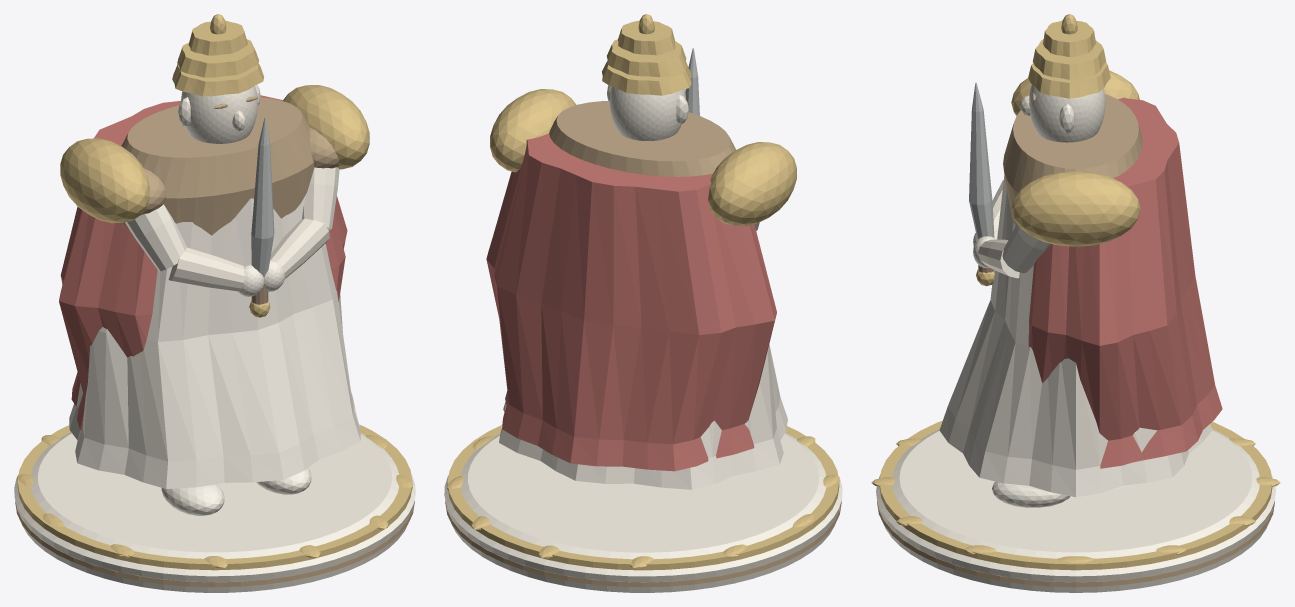
The picture shows the model from 3 angles, left to right: view 1: azimuth 30°, elevation 25°; view 2: azimuth 150°, elevation 25°; view 3: azimuth 270°, elevation 25°; orthographic projection.
Parts seen in each view (by area): view 1: Raja_Robe, Plinth_Stone, Raja_Cuirass, Raja_CrimsonMantle, Plinth_GoldRim, Raja_BroadShoulderLeft, Raja_BroadShoulderRight, Raja_Head, Raja_Sword_Blade, Raja_LeftArm_Upper, Plinth_BronzeFillet, Raja_LeftArm_Fore (+10 smaller); view 2: Raja_CrimsonMantle, Plinth_Stone, Raja_Cuirass, Raja_Robe, Plinth_GoldRim, Raja_BroadShoulderLeft, Raja_BroadShoulderRight, Raja_Head, Plinth_BronzeFillet, Raja_CrownTier1, Raja_CrownTier0, Raja_CrownTier2 (+1 smaller); view 3: Raja_CrimsonMantle, Plinth_Stone, Raja_Robe, Raja_BroadShoulderRight, Raja_Cuirass, Plinth_GoldRim, Raja_Head, Raja_Sword_Blade, Plinth_BronzeFillet, Raja_CrownTier1, Raja_CrownTier0, Raja_CrownTier2 (+4 smaller).
Boxes of the visible parts, left/top/right/bottom form: Raja_Robe: left=69, top=194, right=360, bottom=488; Plinth_Stone: left=14, top=432, right=415, bottom=592; Raja_Cuirass: left=121, top=97, right=314, bottom=235; Raja_CrimsonMantle: left=59, top=95, right=347, bottom=430; Plinth_GoldRim: left=17, top=424, right=412, bottom=570; Raja_BroadShoulderLeft: left=60, top=138, right=149, bottom=223; Raja_BroadShoulderRight: left=283, top=85, right=369, bottom=169; Raja_Head: left=181, top=86, right=257, bottom=143; Raja_Sword_Blade: left=251, top=117, right=274, bottom=277; Raja_LeftArm_Upper: left=125, top=204, right=186, bottom=271; Plinth_BronzeFillet: left=15, top=500, right=414, bottom=587; Raja_LeftArm_Fore: left=168, top=247, right=245, bottom=291; Raja_CrimsonMantle: left=486, top=133, right=776, bottom=471; Plinth_Stone: left=444, top=433, right=842, bottom=592; Raja_Cuirass: left=549, top=101, right=735, bottom=176; Raja_Robe: left=499, top=344, right=787, bottom=489; Plinth_GoldRim: left=447, top=425, right=839, bottom=570; Raja_BroadShoulderLeft: left=708, top=142, right=796, bottom=226; Raja_BroadShoulderRight: left=490, top=89, right=576, bottom=172; Raja_Head: left=609, top=86, right=685, bottom=140; Plinth_BronzeFillet: left=445, top=500, right=841, bottom=587; Raja_CrownTier1: left=607, top=39, right=686, bottom=77; Raja_CrownTier0: left=602, top=61, right=691, bottom=95; Raja_CrownTier2: left=618, top=20, right=675, bottom=55; Raja_CrimsonMantle: left=1028, top=97, right=1222, bottom=468; Plinth_Stone: left=876, top=429, right=1275, bottom=592; Raja_Robe: left=939, top=175, right=1212, bottom=497; Raja_BroadShoulderRight: left=1011, top=171, right=1140, bottom=246; Raja_Cuirass: left=1003, top=94, right=1142, bottom=225; Plinth_GoldRim: left=879, top=420, right=1272, bottom=570; Raja_Head: left=1029, top=84, right=1105, bottom=142; Raja_Sword_Blade: left=969, top=82, right=994, bottom=239; Plinth_BronzeFillet: left=877, top=501, right=1274, bottom=587; Raja_CrownTier1: left=1032, top=39, right=1106, bottom=79; Raja_CrownTier0: left=1028, top=62, right=1110, bottom=98; Raja_CrownTier2: left=1043, top=20, right=1095, bottom=57.
Size of the model in its own units: 0.68 by 0.931 by 0.696.
